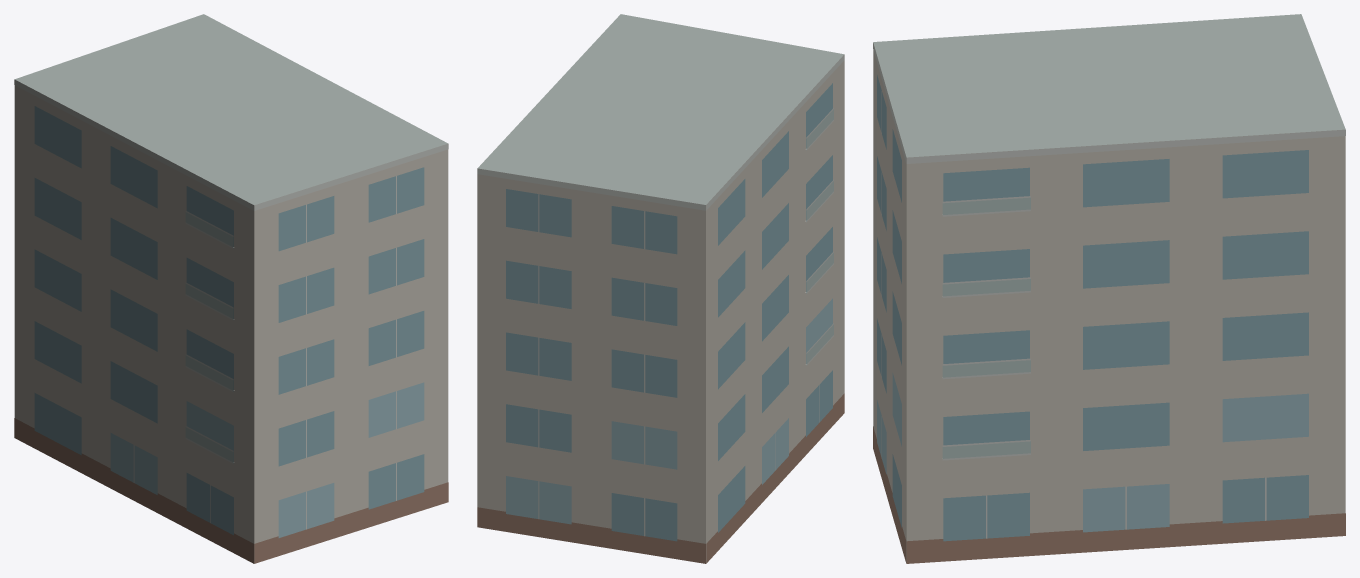
The model's file is survey-upis-32746724.glb.
The picture shows the model from 3 angles, left to right: view 1: azimuth 30°, elevation 25°; view 2: azimuth 150°, elevation 25°; view 3: azimuth 270°, elevation 25°; orthographic projection. The views are drawn at different scales.
Parts seen in each view (by area): view 1: survey-upis-32746724.tmp; view 2: survey-upis-32746724.tmp; view 3: survey-upis-32746724.tmp.
Boxes of the visible parts, box(x1,y1,x2,y2) form: survey-upis-32746724.tmp: box(14, 14, 448, 563); survey-upis-32746724.tmp: box(477, 14, 844, 563); survey-upis-32746724.tmp: box(873, 14, 1345, 563).
Size of the model in its own units: 11.57 by 15.25 by 16.09.
